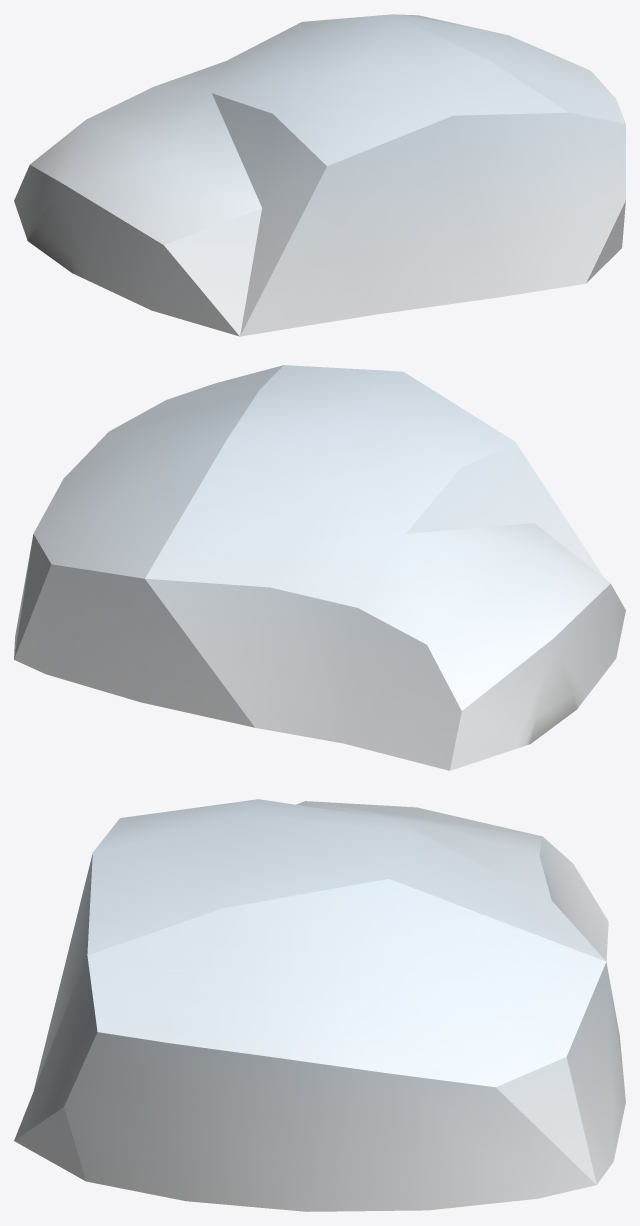
Rendered from Mountain_Stone_White_002.FBX.
3 renders of one model, top to bottom at view 1: azimuth 30°, elevation 25°; view 2: azimuth 150°, elevation 25°; view 3: azimuth 270°, elevation 25°, orthographic. The views are drawn at different scales.
Parts seen in each view (by area): view 1: Mountain_Stone_White_002; view 2: Mountain_Stone_White_002; view 3: Mountain_Stone_White_002.
Boxes of the visible parts, x1,y1,x2,y2 form: Mountain_Stone_White_002: (14, 14, 625, 336); Mountain_Stone_White_002: (14, 365, 625, 770); Mountain_Stone_White_002: (14, 799, 625, 1211).
Bounding box in the file's own units: 549 × 198 × 458.
Materials: 1 (1 with a texture image).
